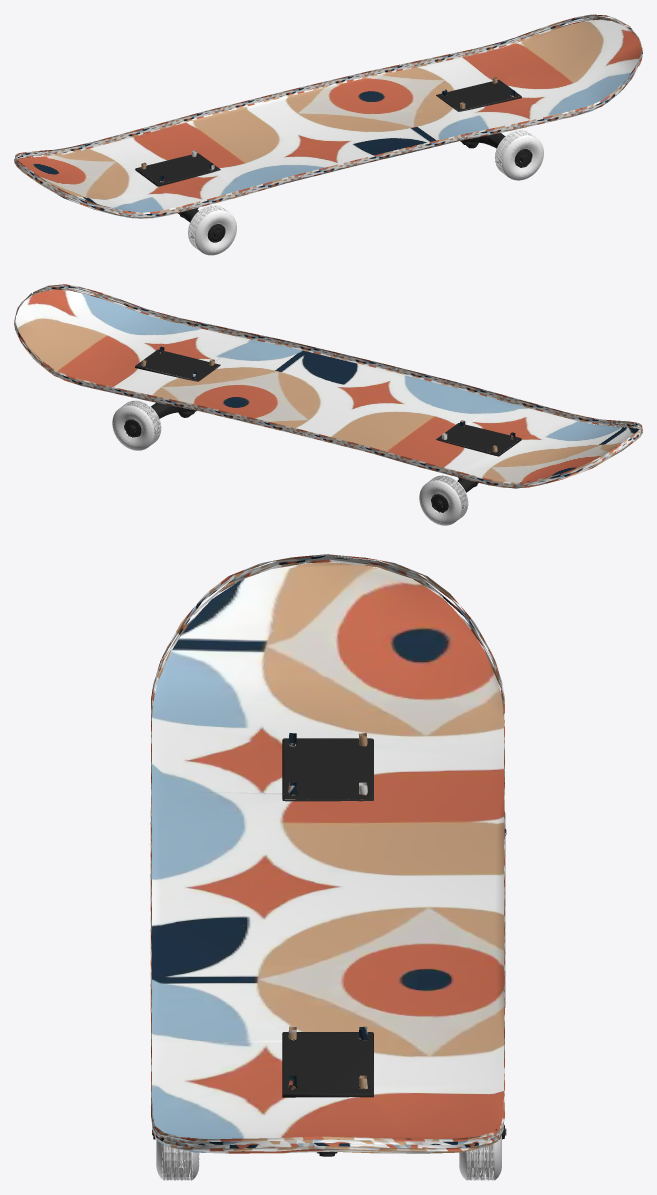
Rendered from board3.glb.
The picture shows the model from 3 angles, top to bottom: view 1: azimuth 30°, elevation 25°; view 2: azimuth 150°, elevation 25°; view 3: azimuth 270°, elevation 25°; orthographic projection. The views are drawn at different scales.
Parts seen in each view (by area): view 1: Skateboard, Skateboard1, Skateboard1_0.001, Skateboard1_2.001; view 2: Skateboard, Skateboard1, Skateboard1_0.001, Skateboard1_2.001; view 3: Skateboard, Skateboard1, Skateboard1_0.001, Skateboard1_2.001.
Boxes of the visible parts, x1=… form: Skateboard: x1=14, y1=14, x2=642, y2=218; Skateboard1: x1=180, y1=79, x2=532, y2=255; Skateboard1_0.001: x1=135, y1=153, x2=225, y2=242; Skateboard1_2.001: x1=188, y1=130, x2=543, y2=254; Skateboard: x1=14, y1=284, x2=642, y2=488; Skateboard1: x1=112, y1=349, x2=478, y2=525; Skateboard1_0.001: x1=436, y1=423, x2=521, y2=506; Skateboard1_2.001: x1=113, y1=400, x2=467, y2=520; Skateboard: x1=150, y1=554, x2=505, y2=1153; Skateboard1: x1=152, y1=829, x2=506, y2=1180; Skateboard1_0.001: x1=282, y1=738, x2=506, y2=833; Skateboard1_2.001: x1=156, y1=1139, x2=501, y2=1180.
Bounding box in the file's own units: 8.63 × 1.24 × 2.21.
Materials: 4 (1 with a texture image).
